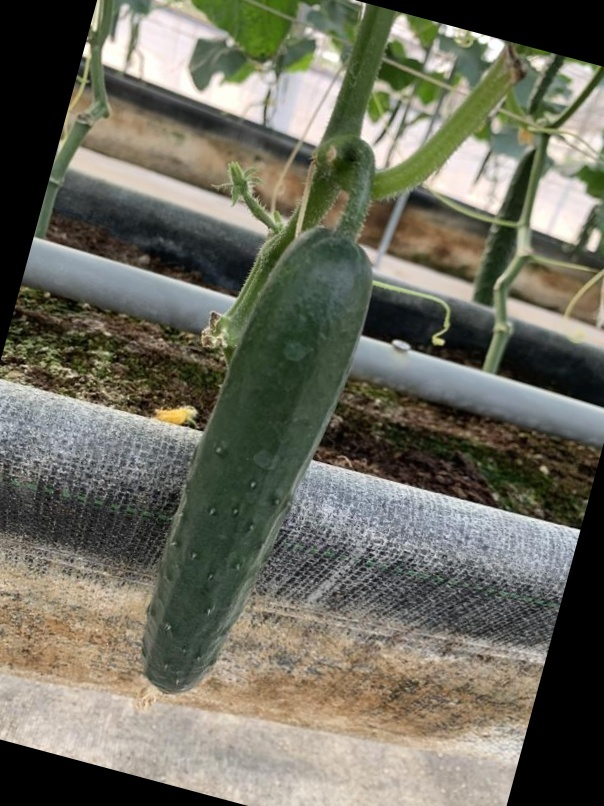mature: (142, 232, 385, 693)
